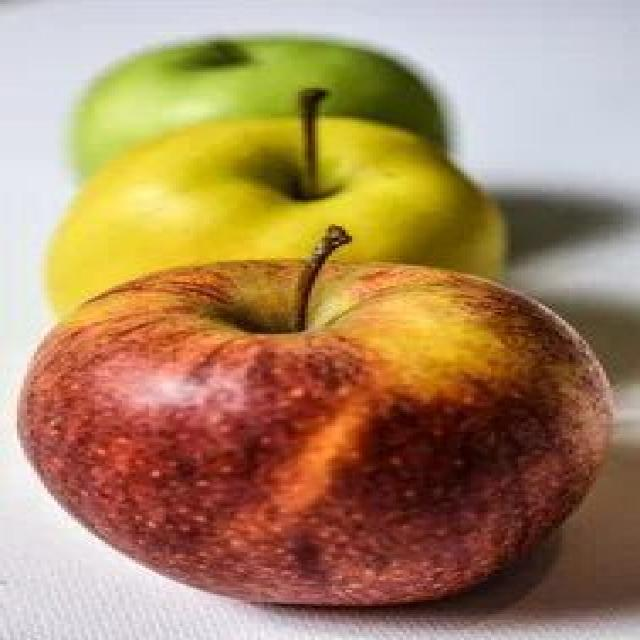fresh_apple: (22, 266, 611, 606), (41, 119, 501, 261), (66, 41, 442, 119)
